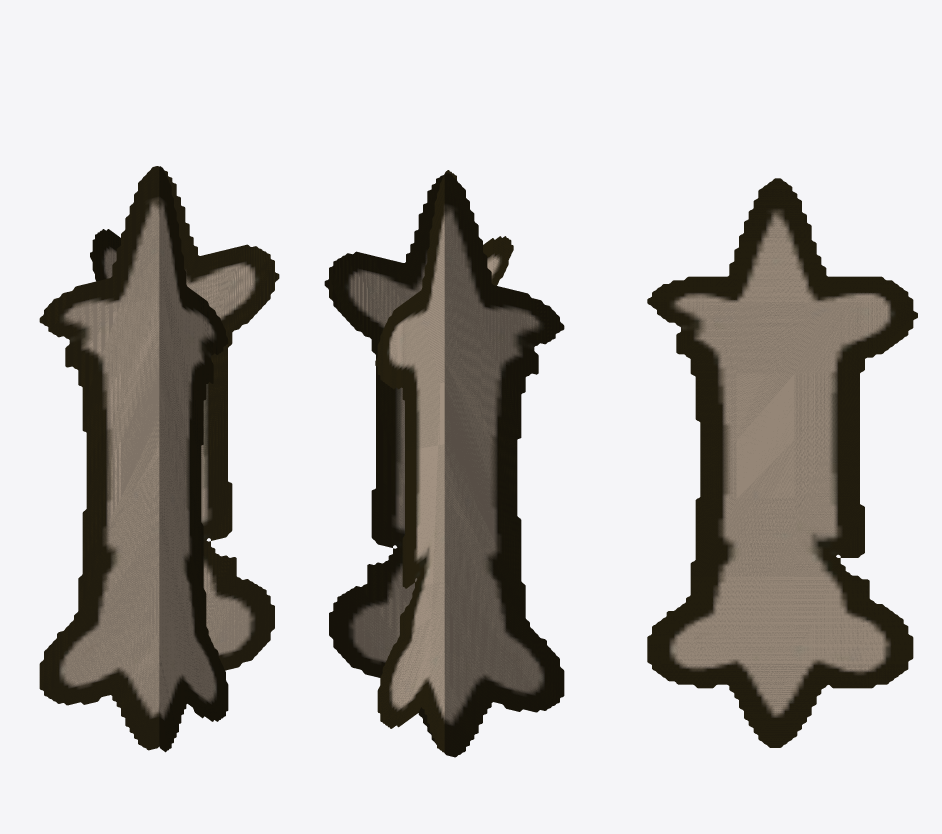
The model's file is c_hone.tri.dae.
3 views of the same model, side by side, from view 1: azimuth 30°, elevation 25°; view 2: azimuth 150°, elevation 25°; view 3: azimuth 270°, elevation 25° (orthographic). The views are drawn at different scales.
Parts seen in each view (by area): view 1: pPlane84, pPlane83, pPlane86, pPlane85; view 2: pPlane84, pPlane83, pPlane86, pPlane85; view 3: pPlane86, pPlane85.
Boxes of the visible parts, x1,y1,x2,y2 form: pPlane84: (39, 166, 279, 750); pPlane83: (39, 166, 278, 749); pPlane86: (90, 166, 228, 752); pPlane85: (90, 170, 227, 751); pPlane84: (324, 173, 564, 757); pPlane83: (329, 173, 564, 757); pPlane86: (375, 170, 513, 752); pPlane85: (377, 171, 512, 750); pPlane86: (647, 178, 917, 747); pPlane85: (647, 178, 916, 746).
Size of the model in its own units: 11.85 by 28.53 by 11.85.
Materials: 2 (2 with a texture image).
